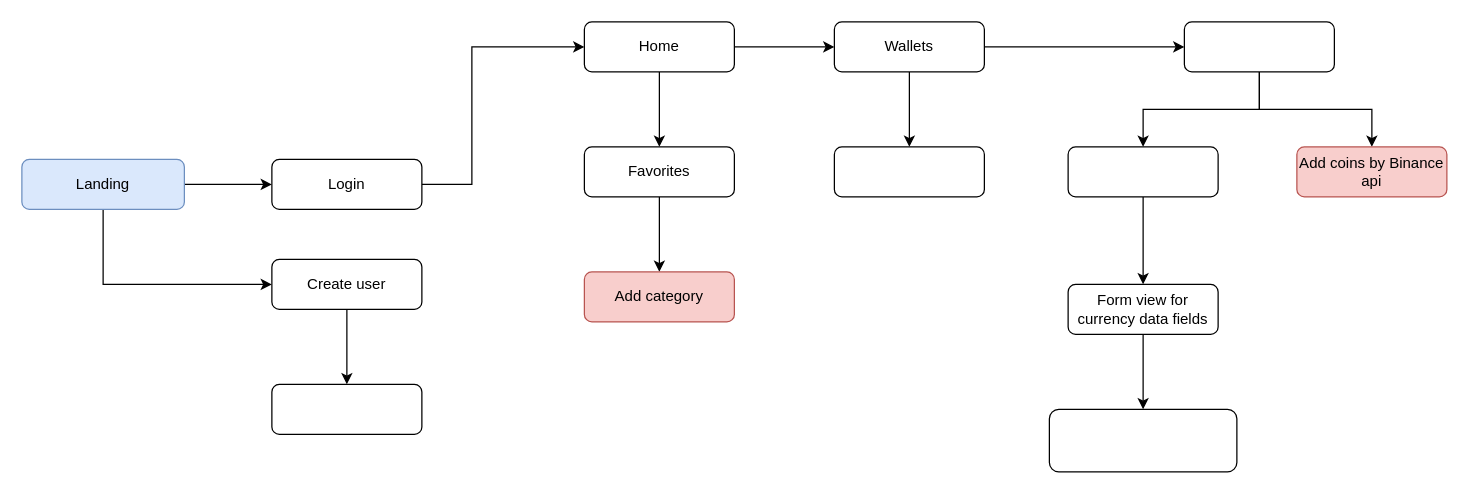
This 1469x494 diagram has some shape labels left out. Each missing label, with the centre of its shape:
Add coins manually: the point at 1142,171
Coin details: the point at 908,171
Form inputs for data user: the point at 346,408
Modal to keep adding coins or redirect to Wallets: the point at 1142,440
Pannel option to add coin data: the point at 1258,46
